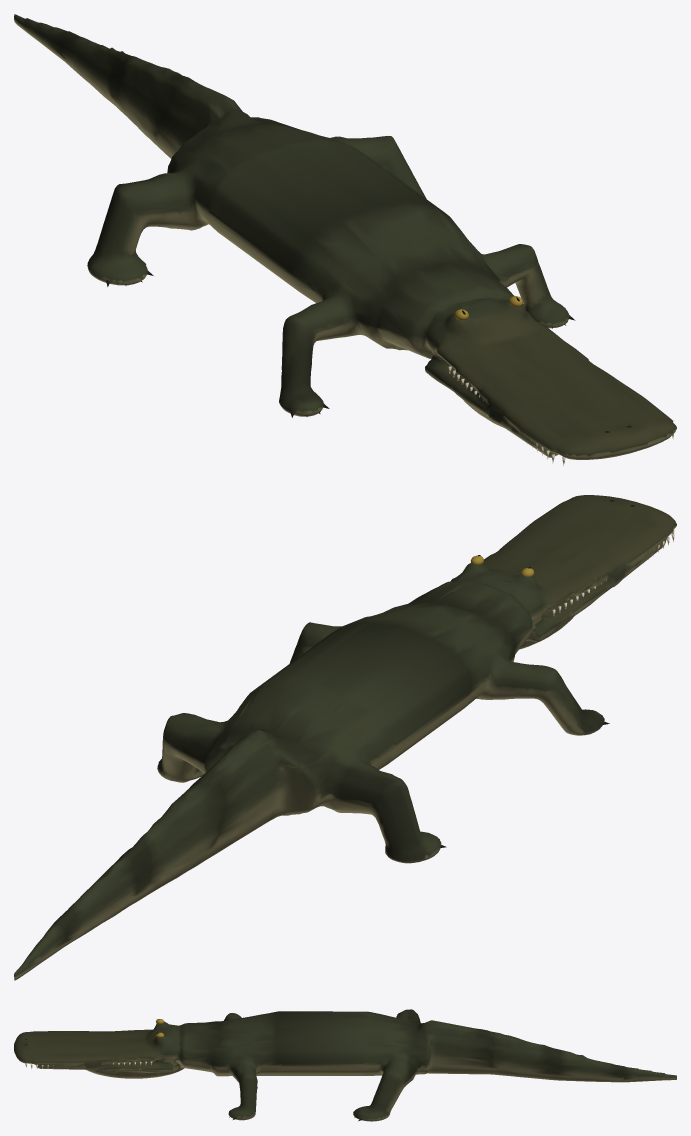
Rendered from MourasuchusArendsi.fbx.
3 views of the same model, one above another, from view 1: azimuth 30°, elevation 25°; view 2: azimuth 150°, elevation 25°; view 3: azimuth 270°, elevation 25° (orthographic). The views are drawn at different scales.
Visible parts, largest first — view 1: MourasuchusArendsi; view 2: MourasuchusArendsi; view 3: MourasuchusArendsi.
Boxes of the visible parts, x1,y1,x2,y2 form: MourasuchusArendsi: (14,14,676,465); MourasuchusArendsi: (14,495,676,980); MourasuchusArendsi: (14,1009,676,1121).
Bounding box in the file's own units: 0.894 × 0.3327 × 3.07.
